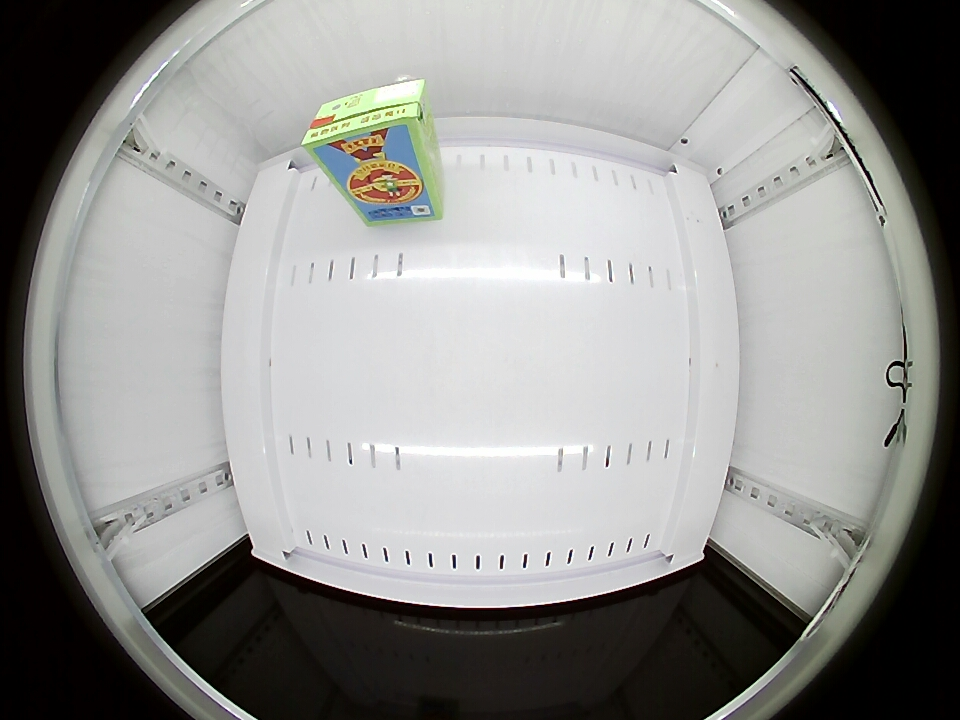wanglaoji: (303, 78, 429, 166)
